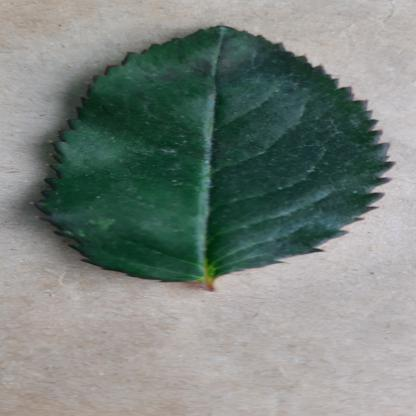downy-mildew: (33, 20, 387, 284)
